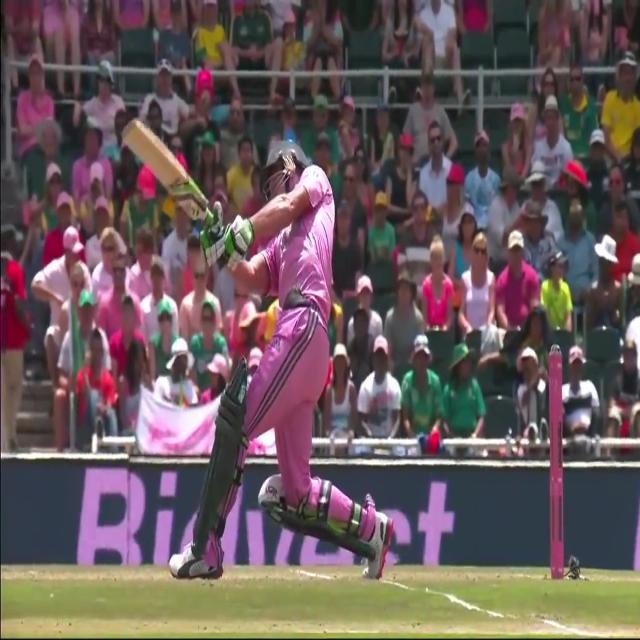Ball: (166, 133, 392, 582)
